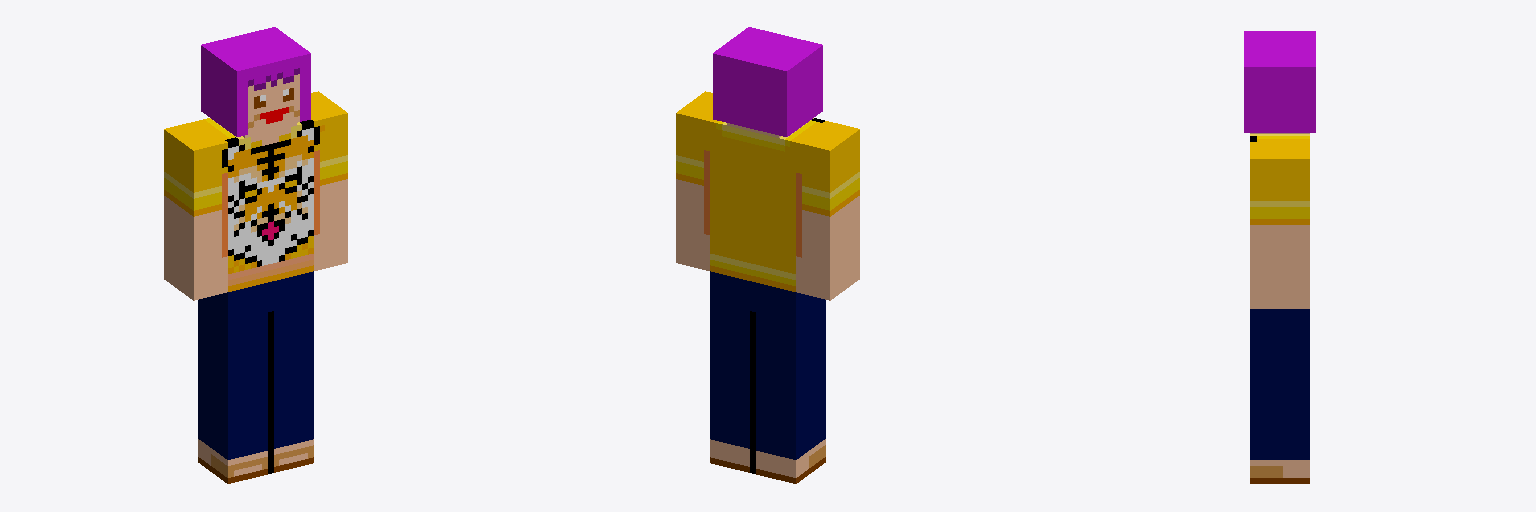
3 renders of one model, left to right at view 1: azimuth 30°, elevation 25°; view 2: azimuth 150°, elevation 25°; view 3: azimuth 270°, elevation 25°, orthographic.
Parts seen in each view (by area): view 1: object 1; view 2: object 1; view 3: object 1.
Part boxes in pixels (left/top/right/bottom): object 1: left=164, top=27, right=347, bottom=483; object 1: left=676, top=27, right=859, bottom=483; object 1: left=1244, top=31, right=1315, bottom=483.
Size of the model in its own units: 2.7 by 6.9 by 1.1.
1 materials, 1 textured.